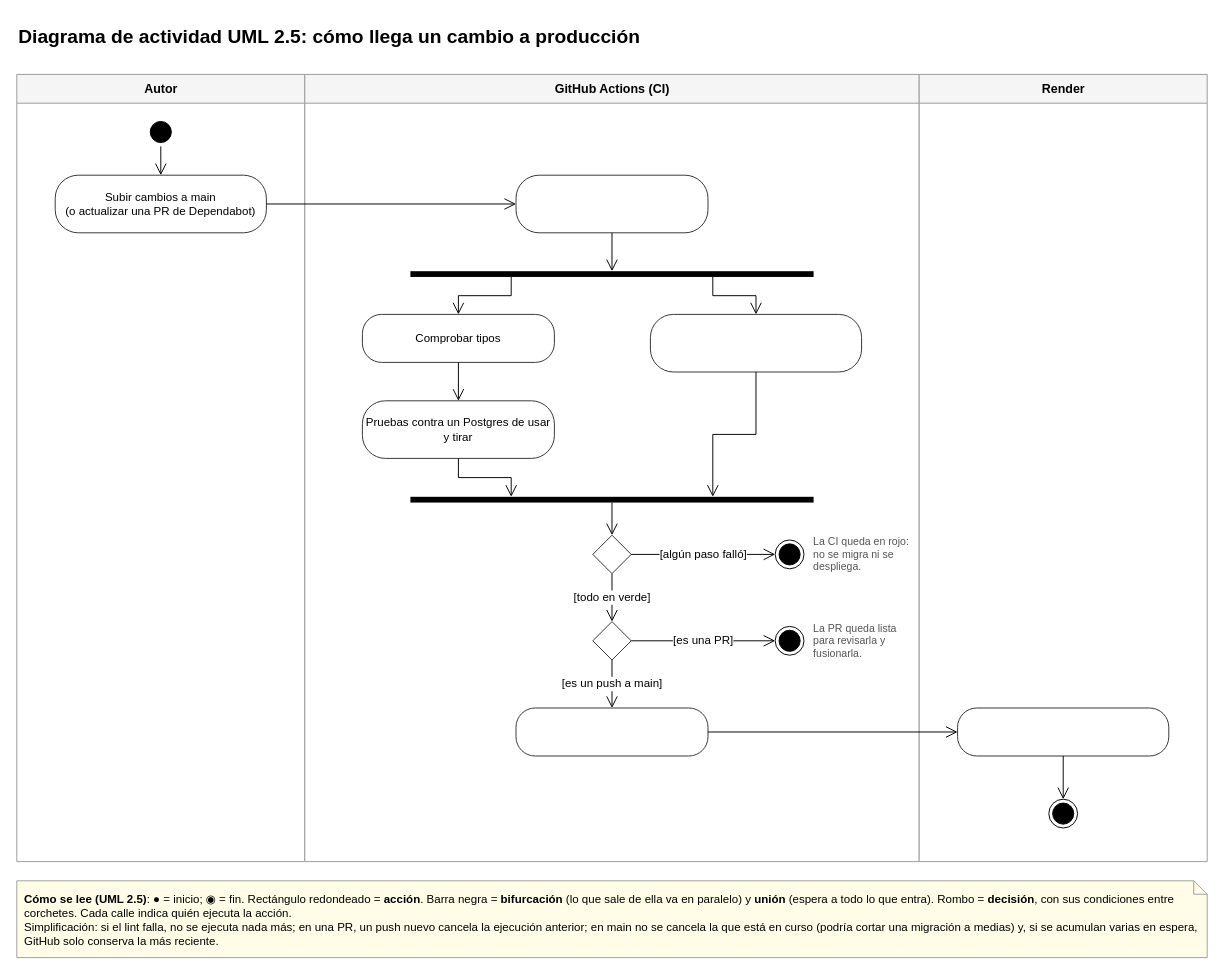
This 1224x974 diagram has some shape labels left out. Each missing label, with the centre of its shape:
"Aplicar las migraciones en Neon" goes at (611,731).
"Construir la imagen de la API y probar /health" goes at (755,342).
"Desplegar la API nueva (solo con TODO en verde)" goes at (1063,731).
"Lint y auditoría de dependencias" goes at (611,203).
